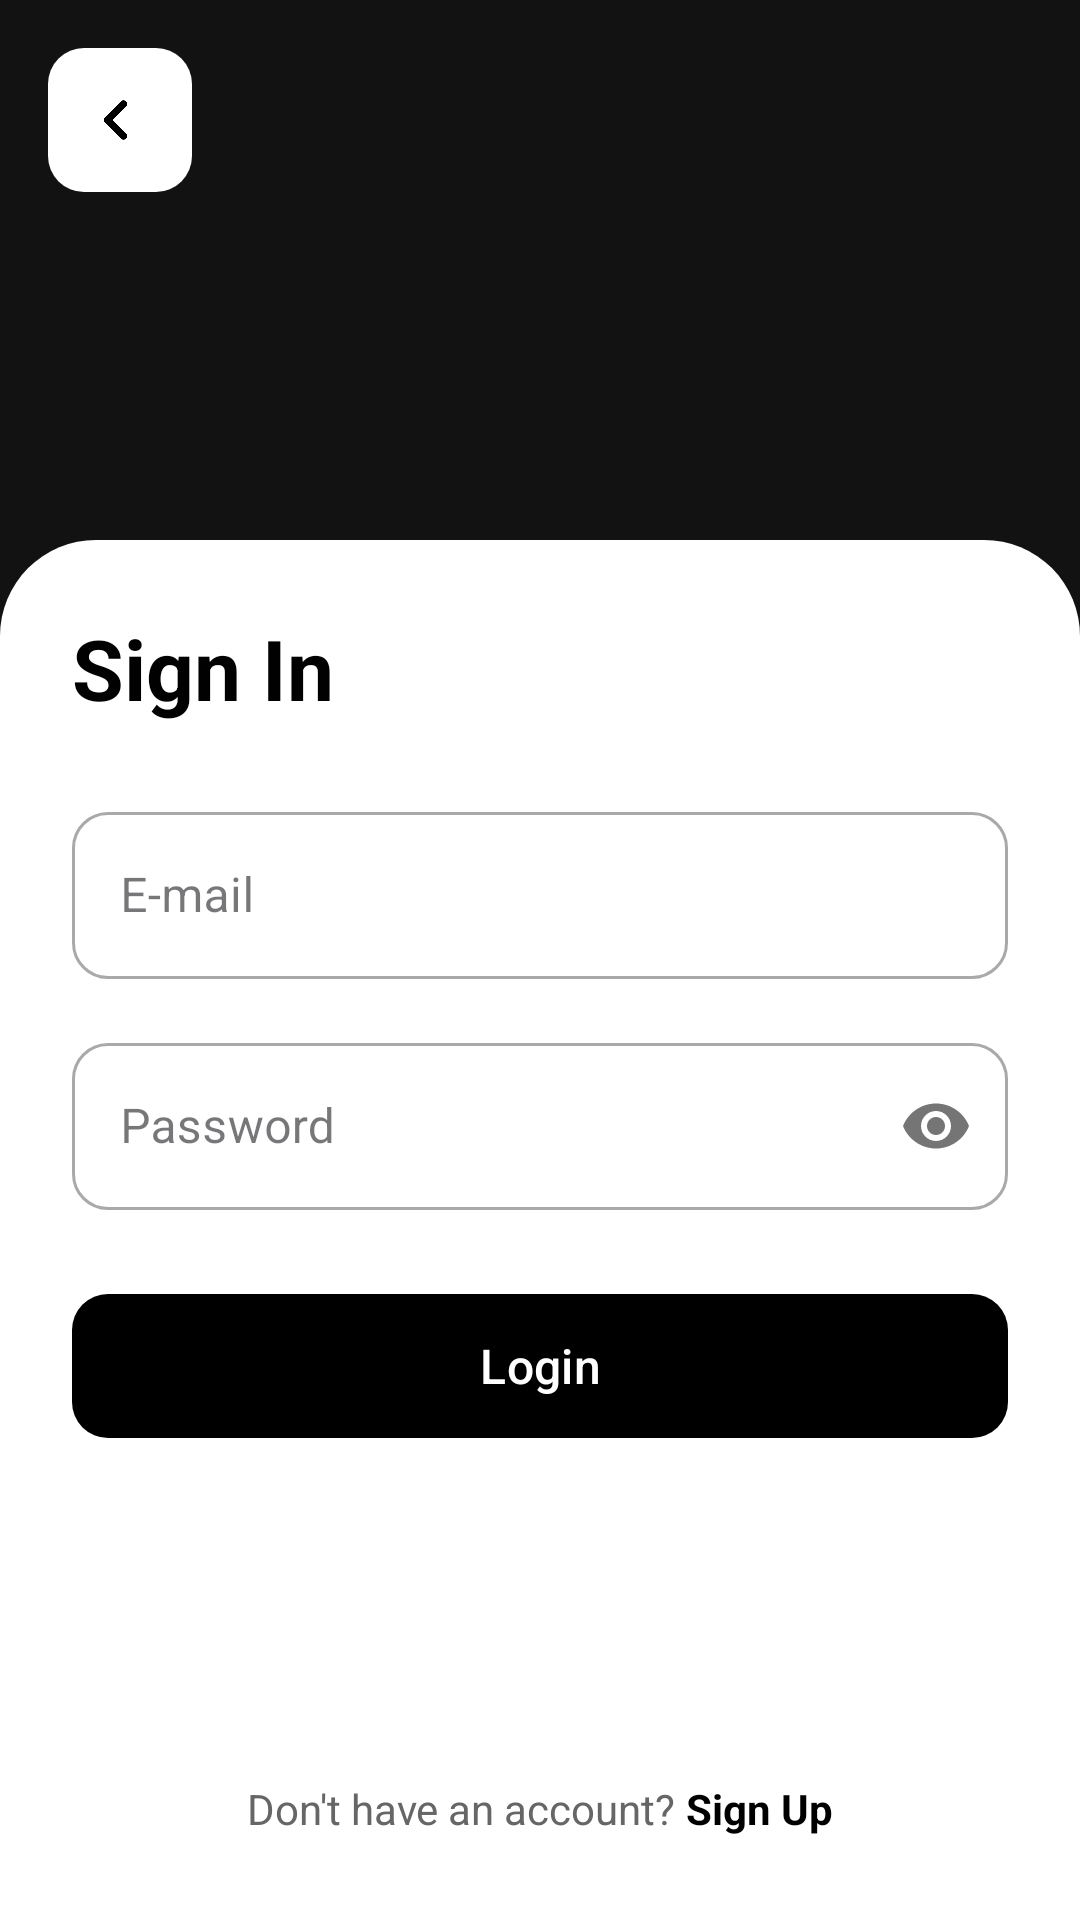

Named icons in this screenshot (1080×1920) and their bounding boxes, (x1, y1, x2, y2):
voltar: (48, 48, 192, 192)
